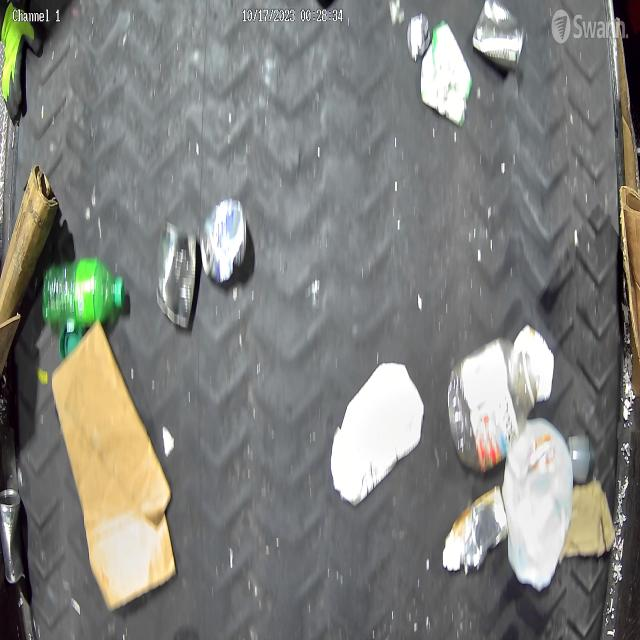can: (155, 221, 199, 330), (202, 197, 248, 282), (473, 0, 527, 71), (0, 488, 26, 584), (406, 12, 431, 64)
milk_jug: (332, 362, 424, 503), (506, 415, 575, 592)
